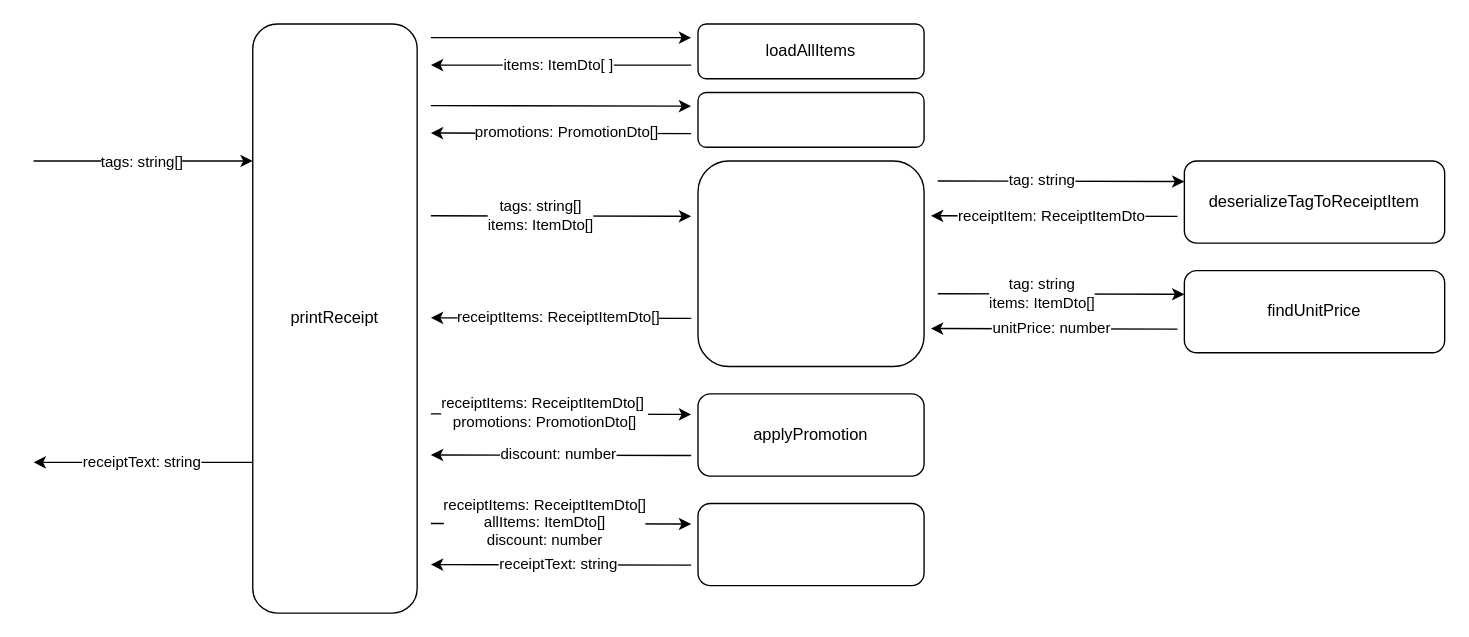
The diagram is 1469 pixels wide and 637 high, and some of its shapes have lost their labels. The centre of each missing label's shape, as x and y in pixels:
"loadPromotions" goes at pixel 810 119.
"recordQuantityAndCalcPrice" goes at pixel 810 263.
"render" goes at pixel 810 544.
